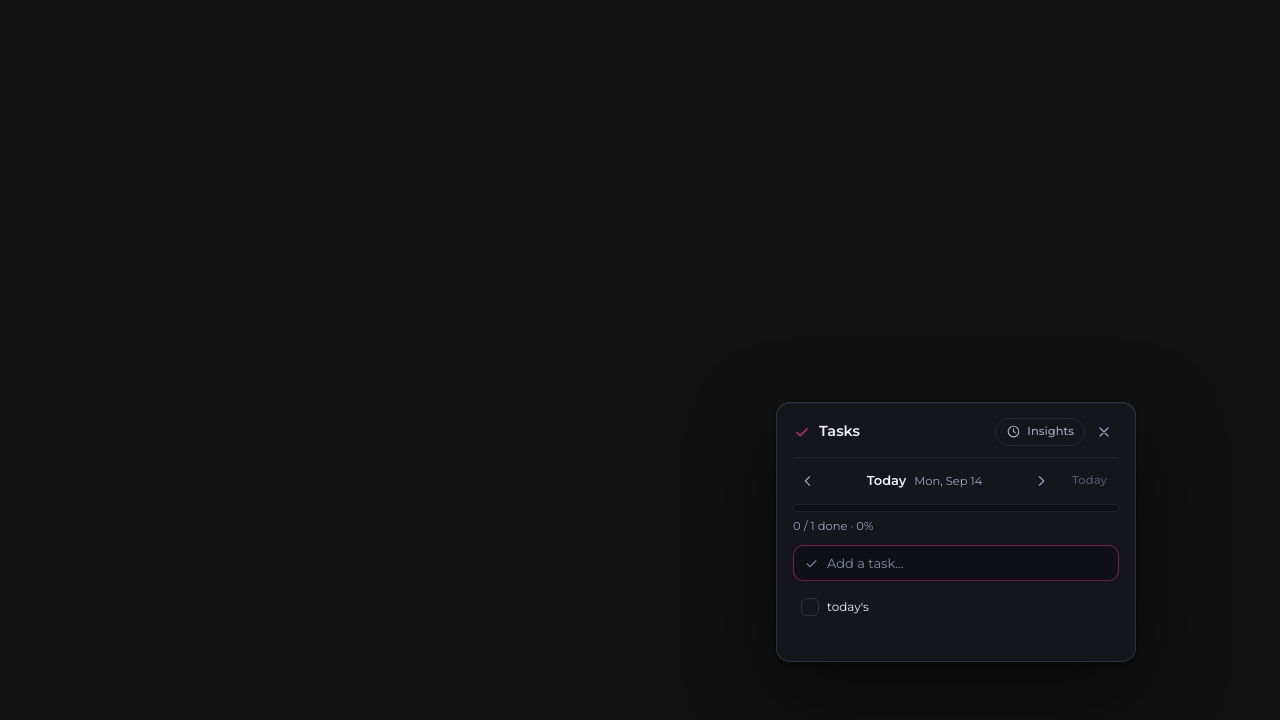
it: Tasks panel: days › navigates days with the buttons and comes back with Today
Expected: the button with class "tk-today" is disabled, [1060,467,1119,495]
Click the button named "Previous day" at (808, 481), box [793,466,823,496]
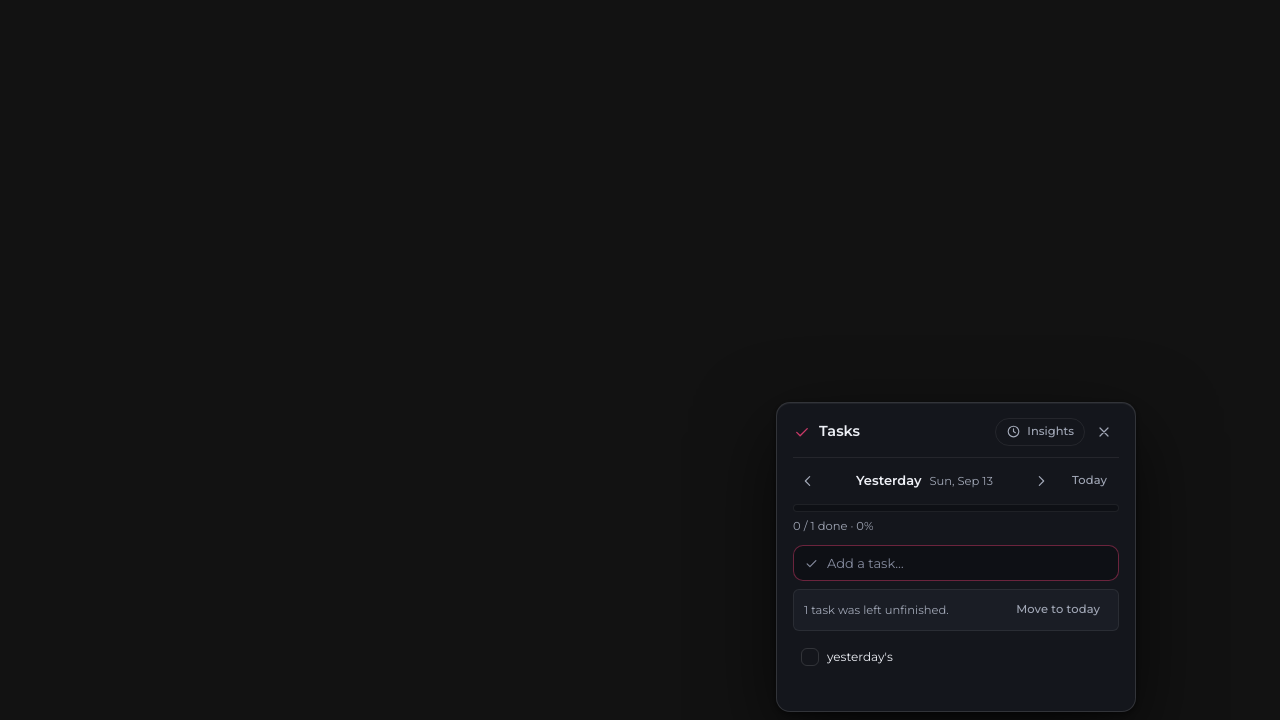
Now the text "Yesterday" is shown, box [856,471,922,491]
Click the button named "Next day" at (1041, 481), box [1026,466,1056,496]
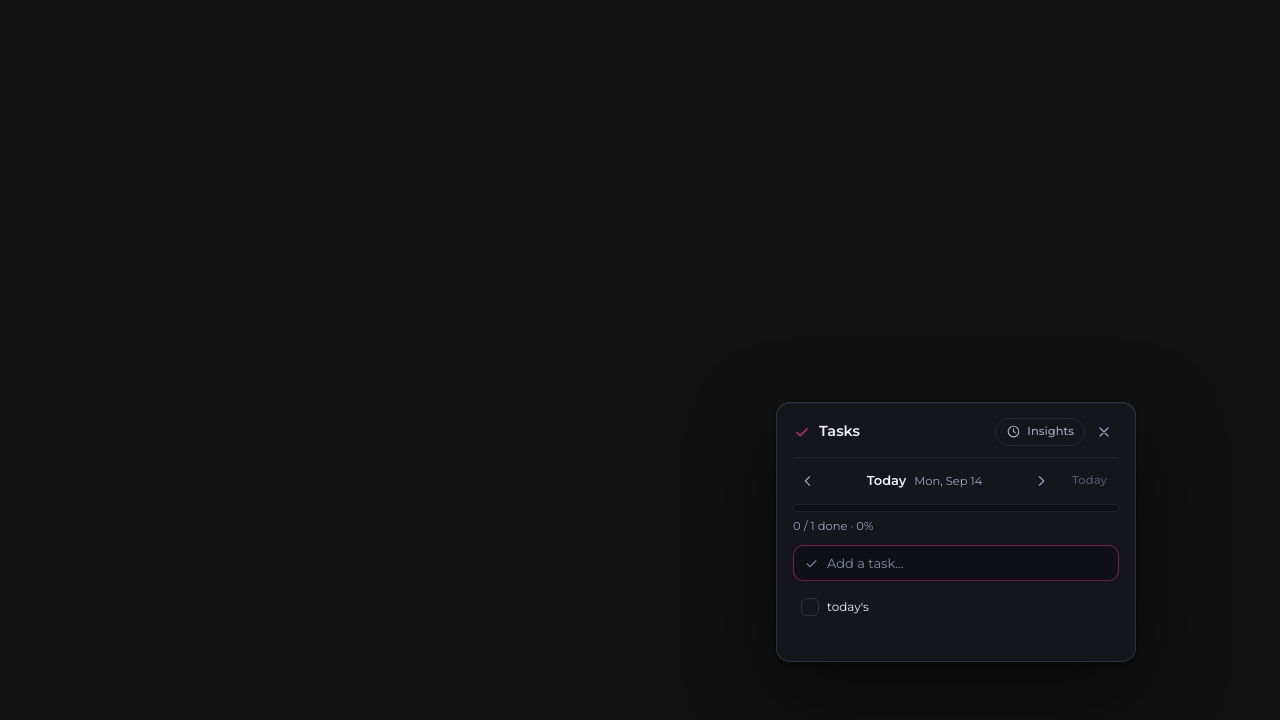
Click the button named "Next day" at (1041, 481), box [1026,466,1056,496]
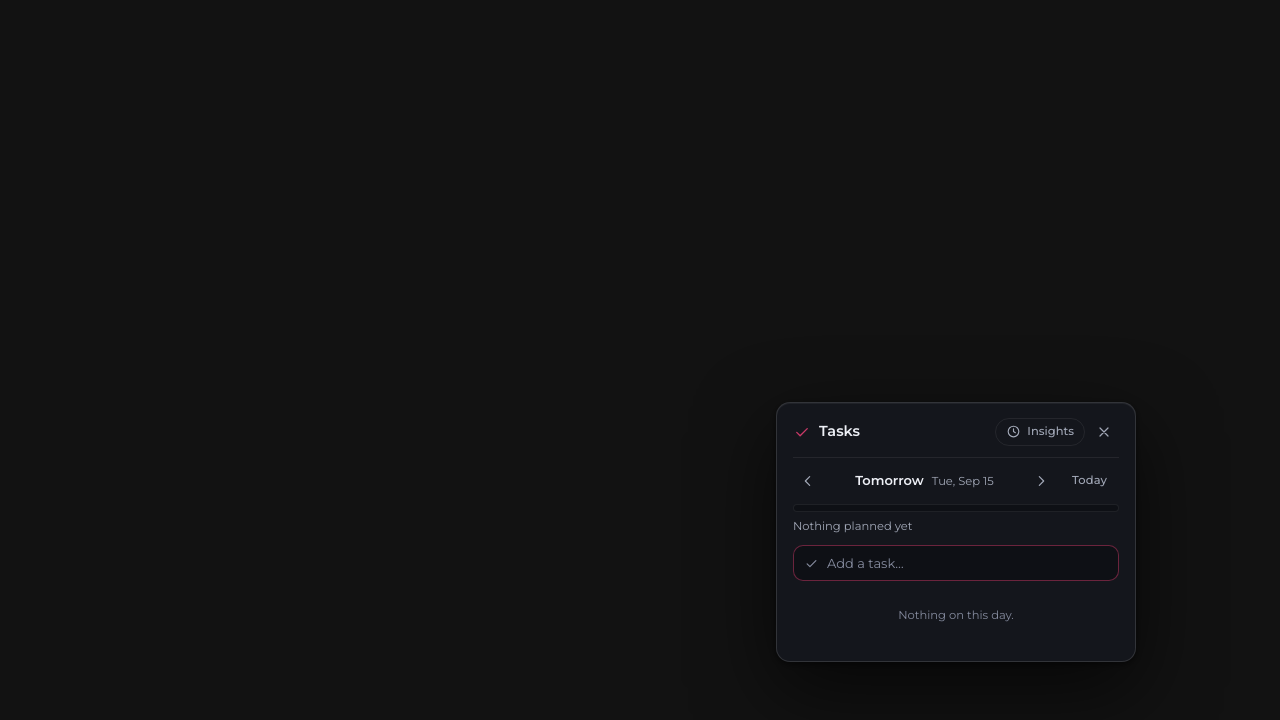
Now the text "Tomorrow" is shown, box [855,471,924,491]
Click the button with class "tk-today" at (1090, 481), box [1060,467,1119,495]
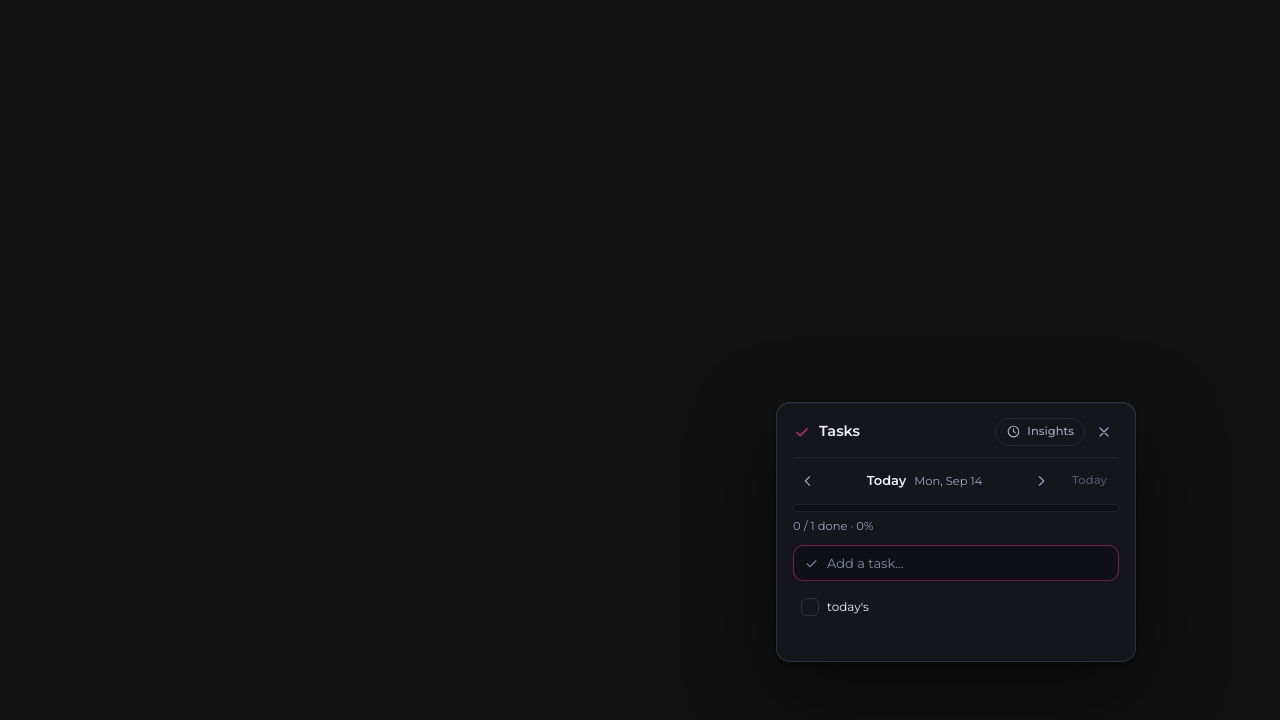
Now the text "Today" is shown, box [867,471,906,491]
